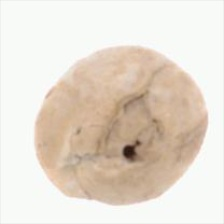L3: (90, 93, 161, 168)
L4: (34, 46, 208, 206)
